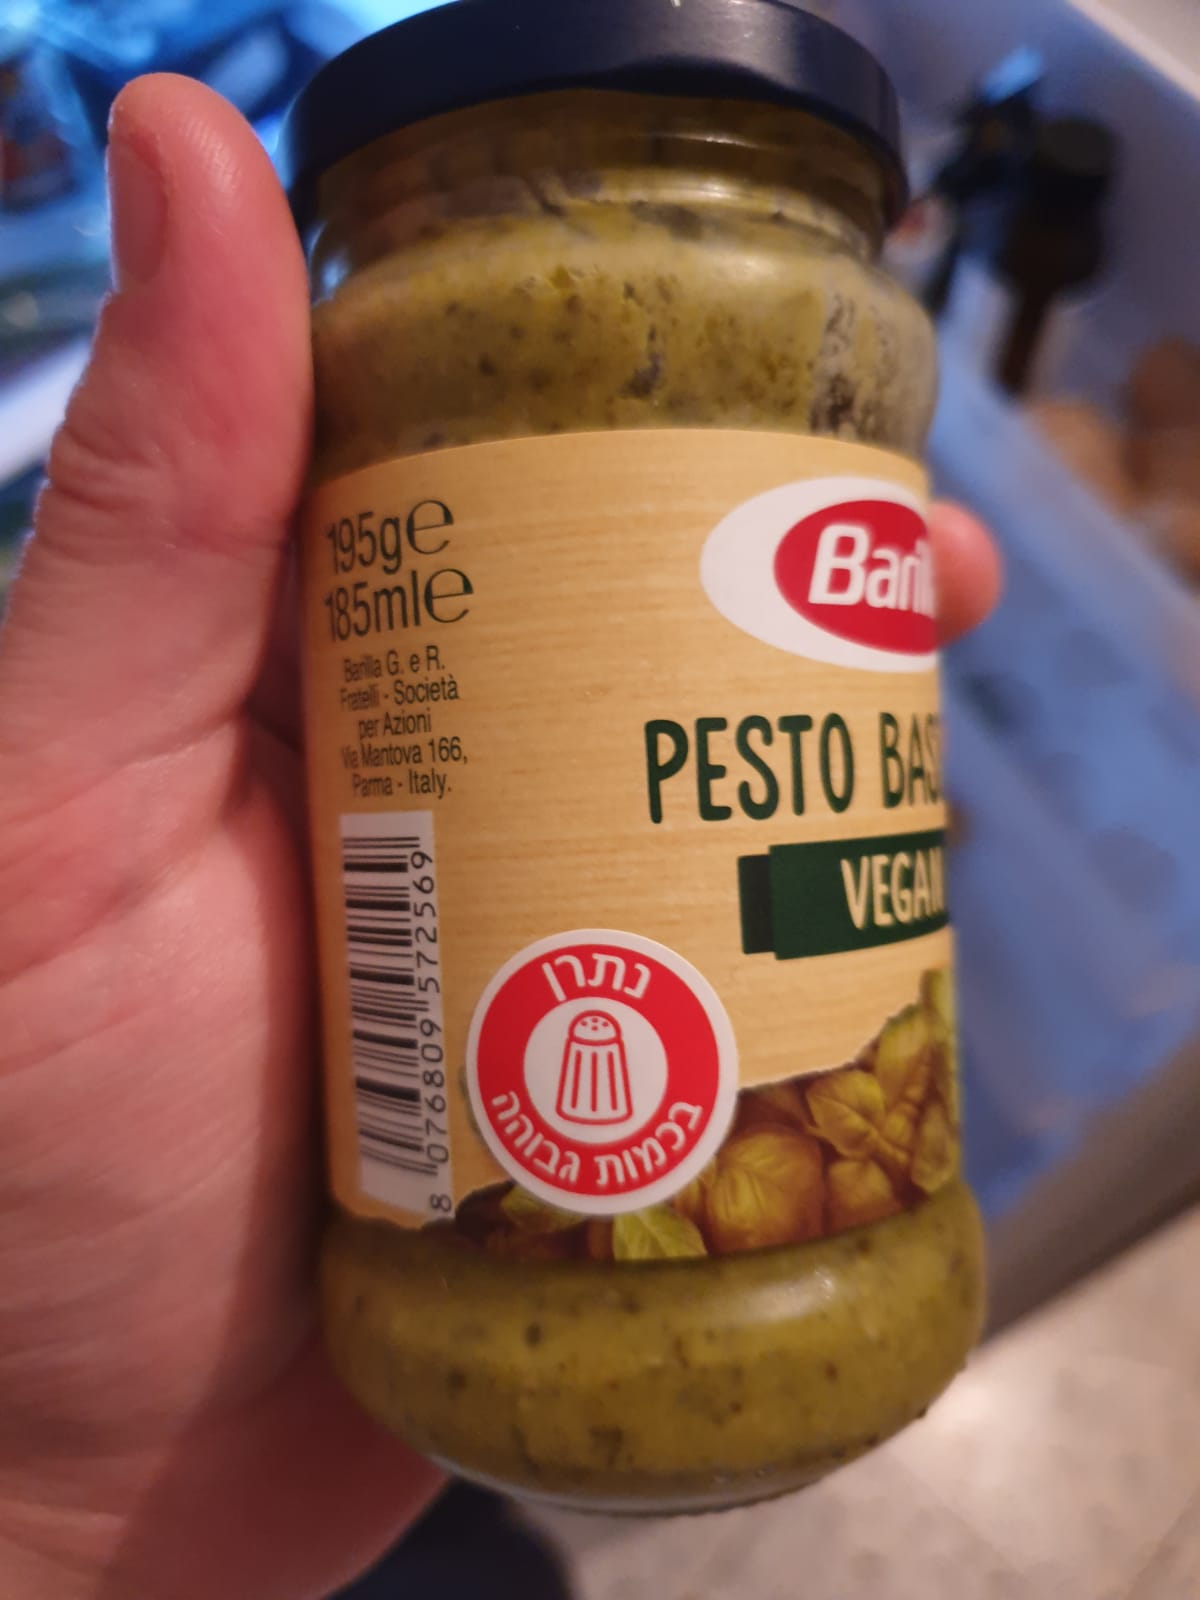salt: (463, 929, 742, 1213)
